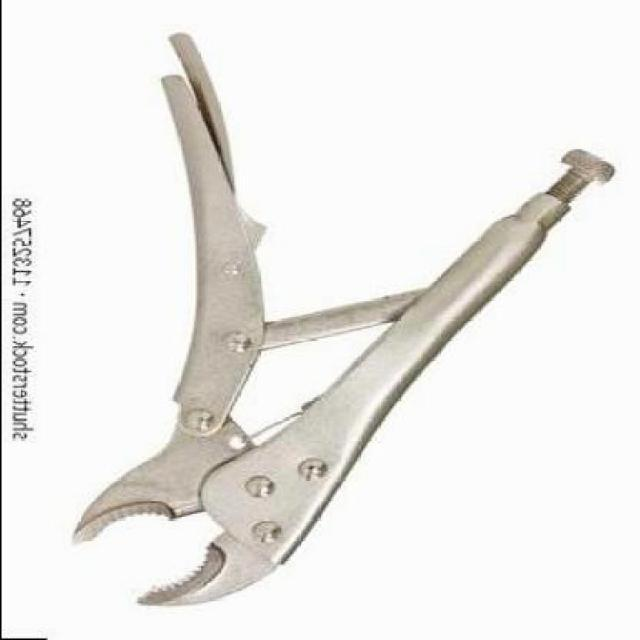pliers: (67, 28, 624, 610)
